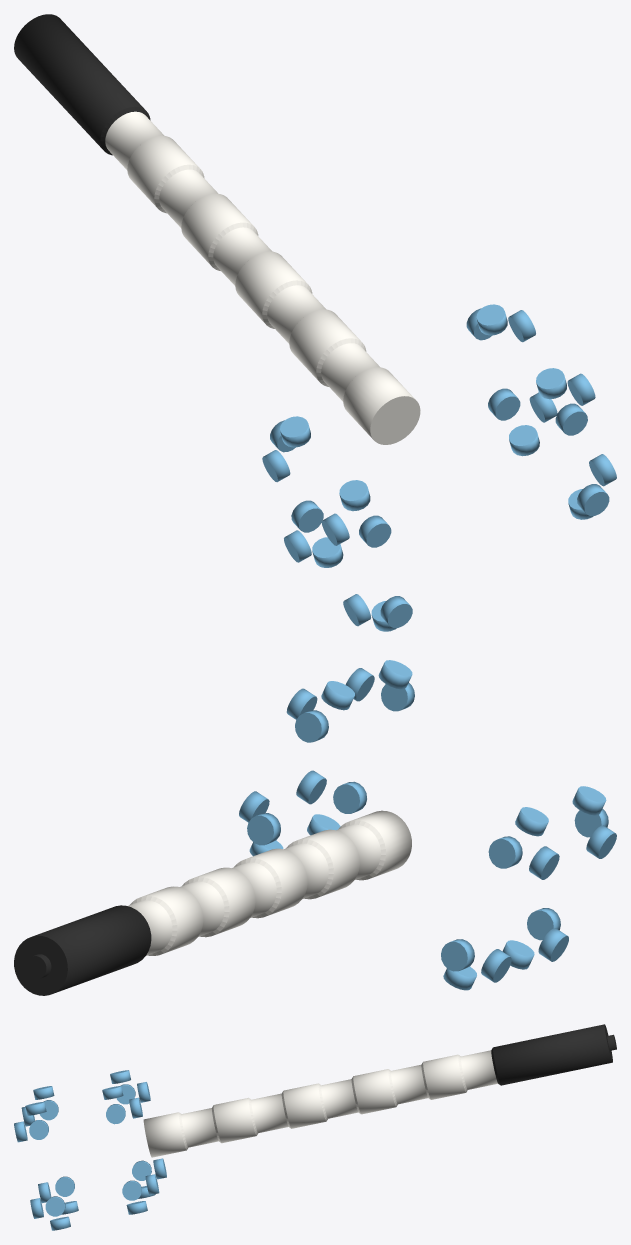
File: Hummer_gloryKill_anim.fbx
3 views of the same model, one above another, from view 1: azimuth 30°, elevation 25°; view 2: azimuth 150°, elevation 25°; view 3: azimuth 270°, elevation 25° (orthographic). The views are drawn at different scales.
Parts seen in each view (by area): view 1: cube stage 3.008; view 2: cube stage 3.008; view 3: cube stage 3.008.
Boxes of the visible parts, x1,y1,x2,y2 form: cube stage 3.008: (14,14,616,631); cube stage 3.008: (14,660,616,995); cube stage 3.008: (14,1024,616,1230).
Size of the model in its own units: 117 by 116 by 307.
